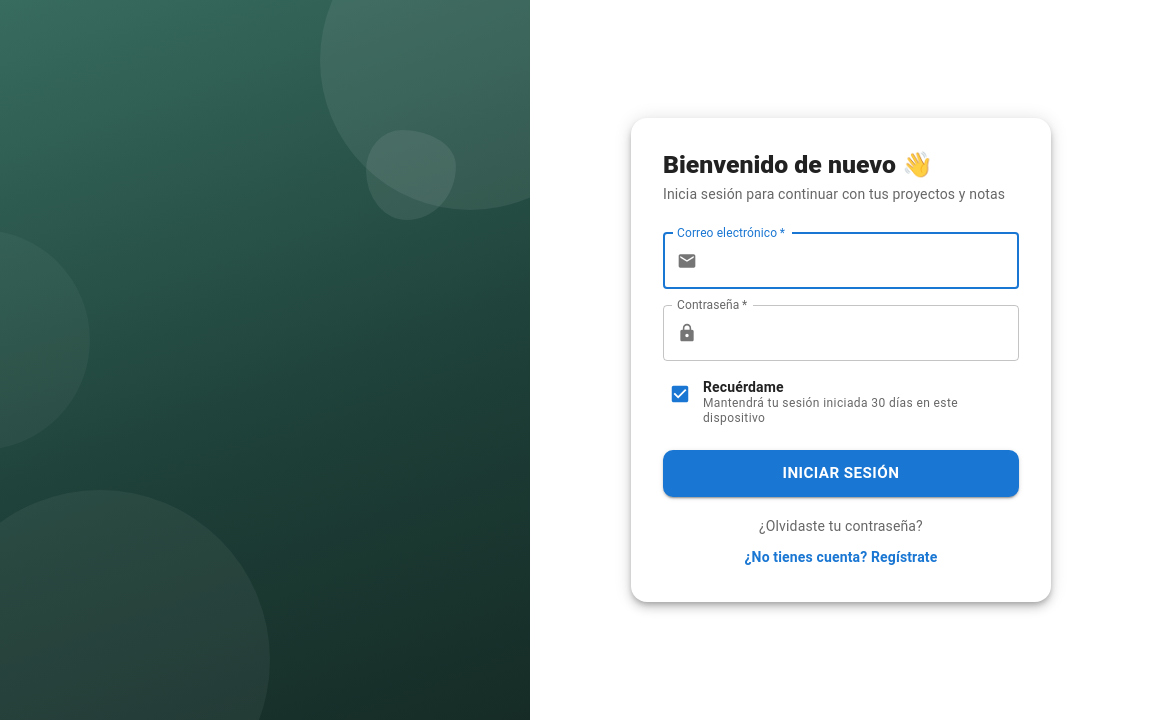
Login › muestra el error del servidor cuando el login falla
Type "ana@test.com" into the field labelled "Correo electrónico *". click: x=862, y=261
box: [705, 233, 1019, 289]
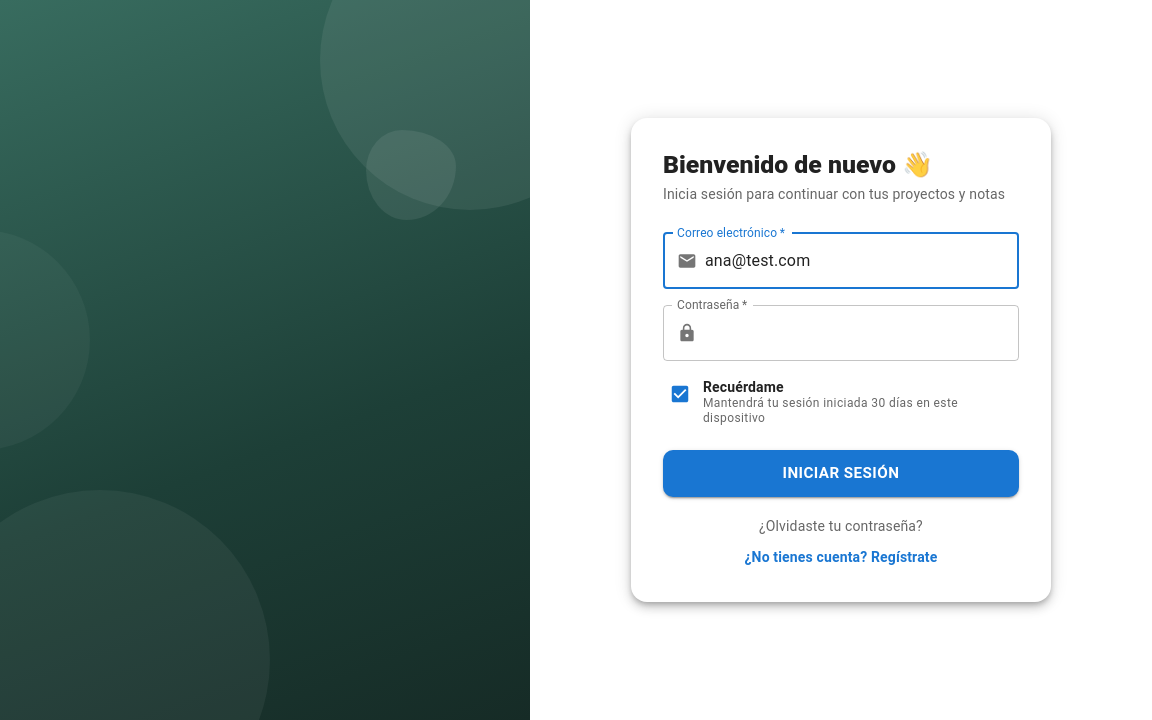
Type "mala" into the password field labelled "Contraseña *". click: x=862, y=333
box: [705, 305, 1019, 361]
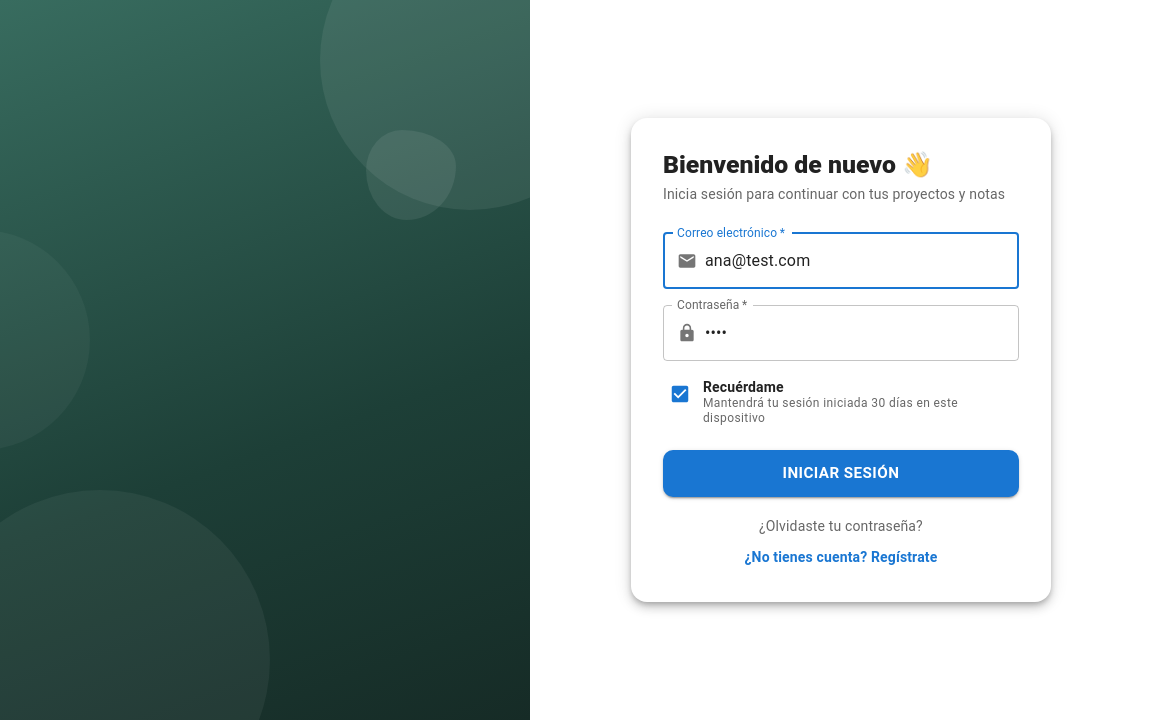
Click the button "Iniciar sesión". click: x=841, y=473
box: [663, 450, 1019, 497]
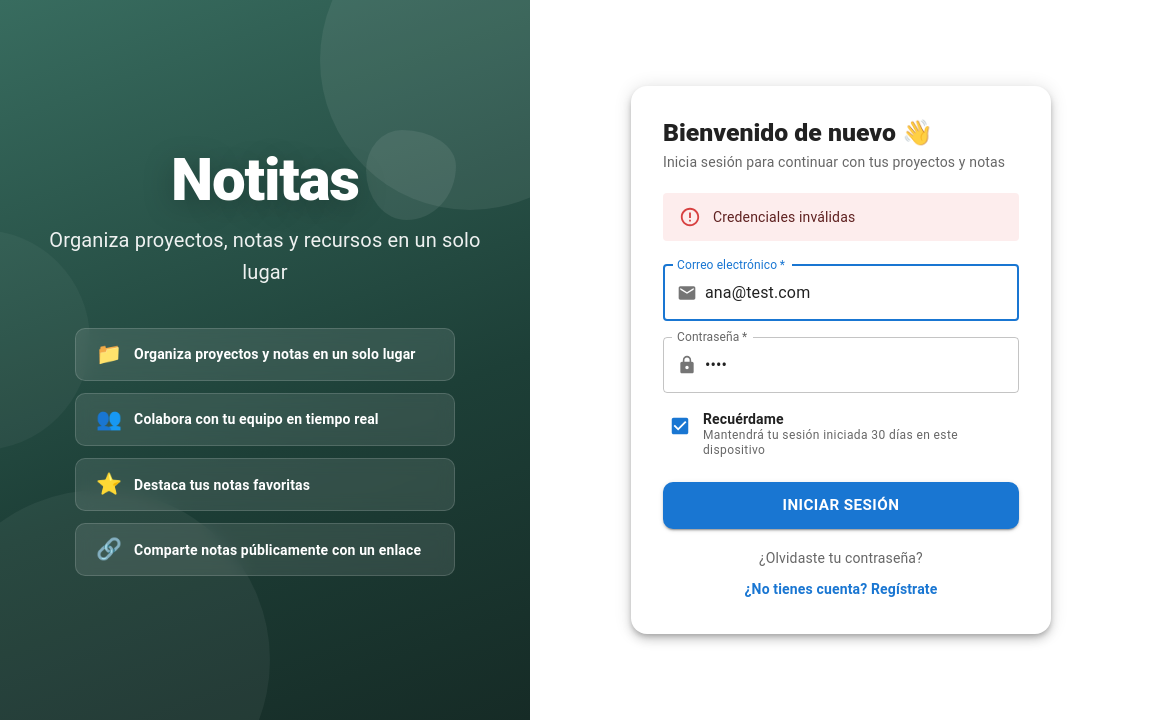
Expected: the text "Credenciales inválidas" is shown, [713, 209, 855, 225]
